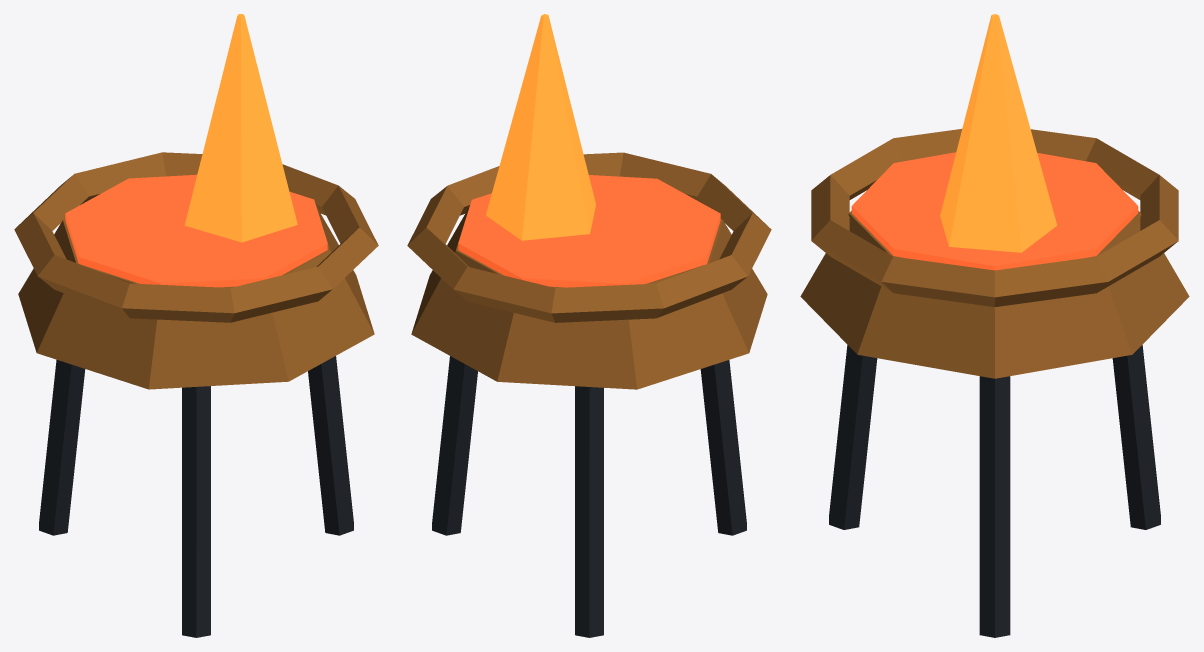
The model's file is battle_signal_brazier_LOD2.glb.
3 views of the same model, side by side, from view 1: azimuth 30°, elevation 25°; view 2: azimuth 150°, elevation 25°; view 3: azimuth 270°, elevation 25° (orthographic). The views are drawn at different scales.
Parts seen in each view (by area): view 1: battle_signal_brazier_LOD2; view 2: battle_signal_brazier_LOD2; view 3: battle_signal_brazier_LOD2.
Boxes of the visible parts, box(x1,y1,x2,y2) form: battle_signal_brazier_LOD2: box(14, 14, 378, 637); battle_signal_brazier_LOD2: box(407, 14, 771, 637); battle_signal_brazier_LOD2: box(800, 14, 1189, 637).
Size of the model in its own units: 1.44 by 2.32 by 1.44.
